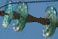gap: (14, 2, 57, 39)
